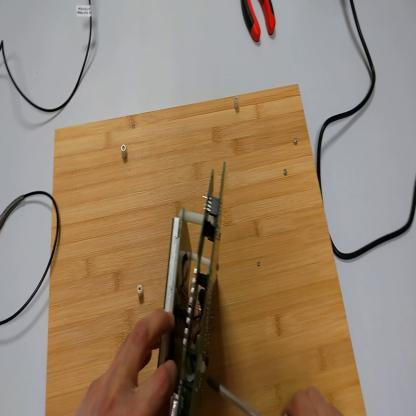hand: (72, 311, 177, 416), (287, 386, 344, 414)
low voltage board: (168, 163, 225, 416)
oscilloscope probe tip: (1, 187, 29, 228)
pliers: (242, 1, 277, 46)
screwdriver-: (207, 378, 257, 412)
working area: (47, 68, 367, 415)
